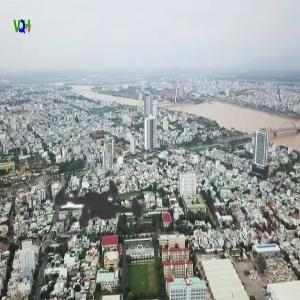drone: (10, 112, 186, 288)
